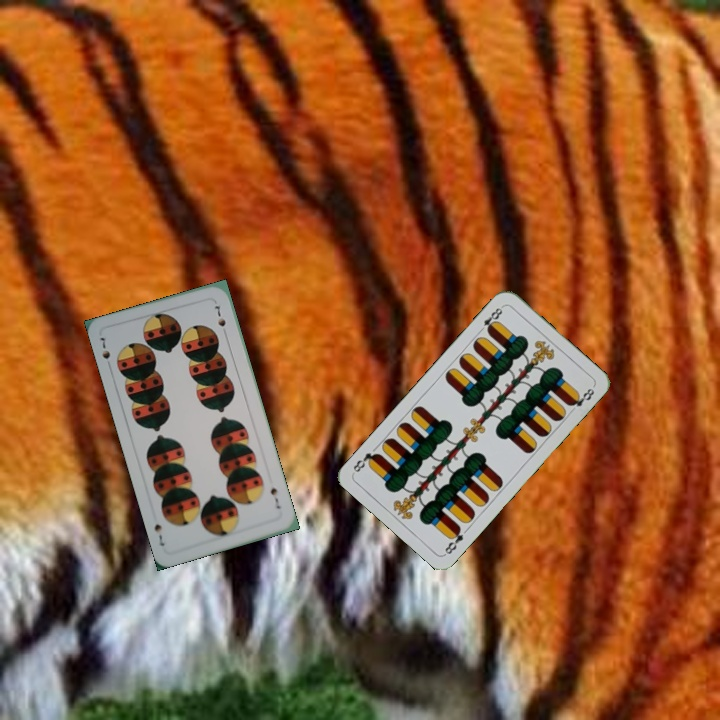E8: (475, 302, 506, 335), (441, 523, 466, 558)
S7: (95, 333, 113, 361), (266, 484, 283, 511)
